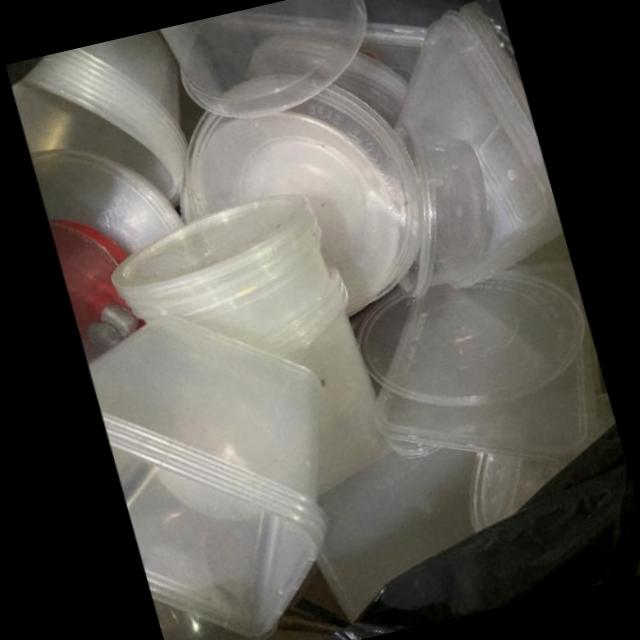hop_nhua: (107, 193, 382, 494), (83, 316, 323, 640), (397, 0, 560, 287), (10, 30, 185, 208), (159, 0, 367, 117), (391, 116, 484, 297)
